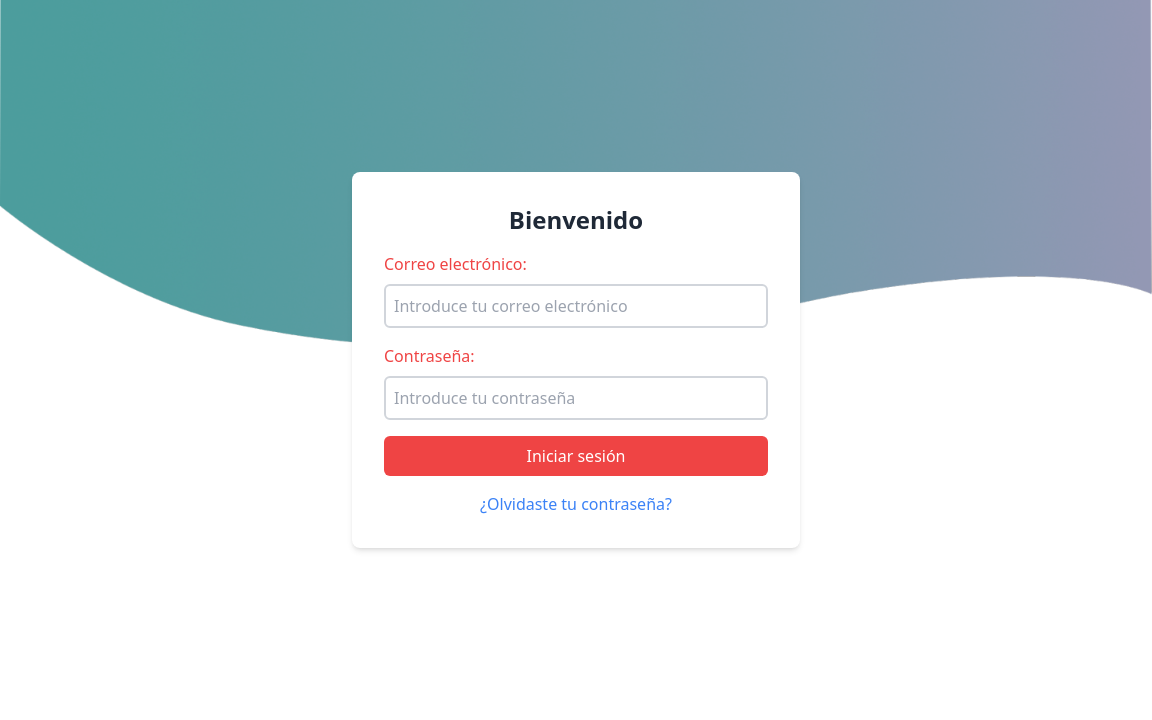
Test case: LoginForm › shows error on login failure
Note: Fill out the form
Step 1. Type "wrong@example.com" into the field labelled "Correo electrónico:" → {"x": 576, "y": 306}, box [384,284,768,328]
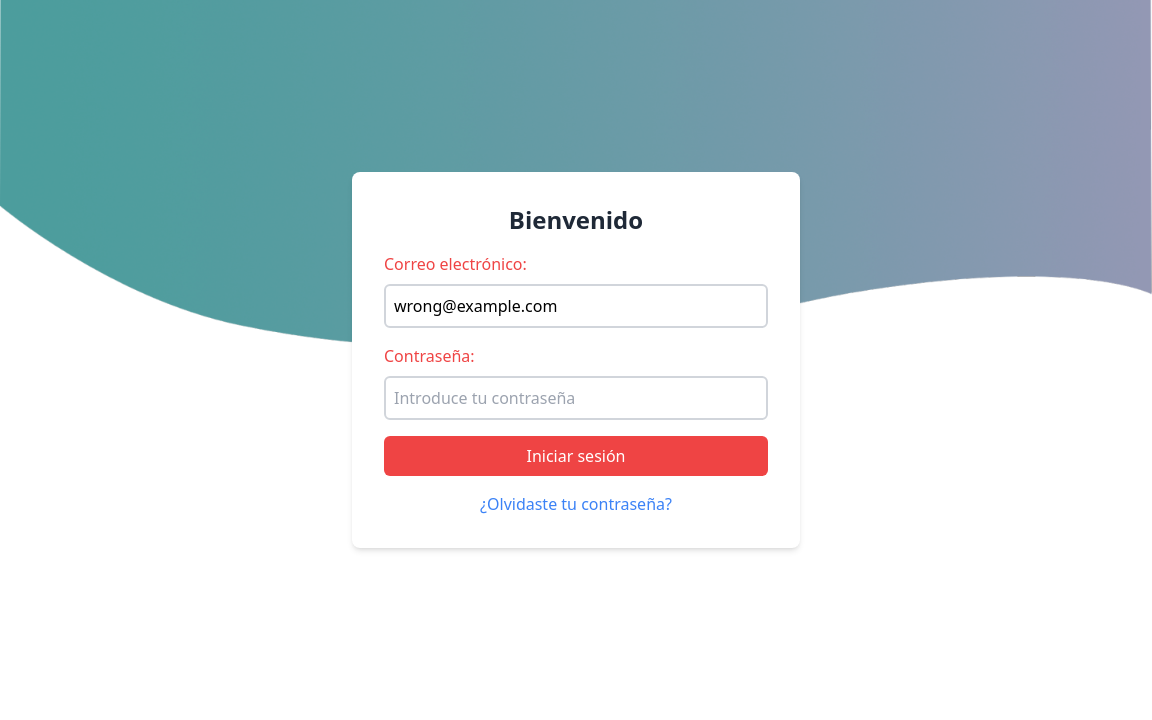
Step 2. Type "wrongpassword" into the password field labelled "Contraseña:" → {"x": 576, "y": 398}, box [384,376,768,420]
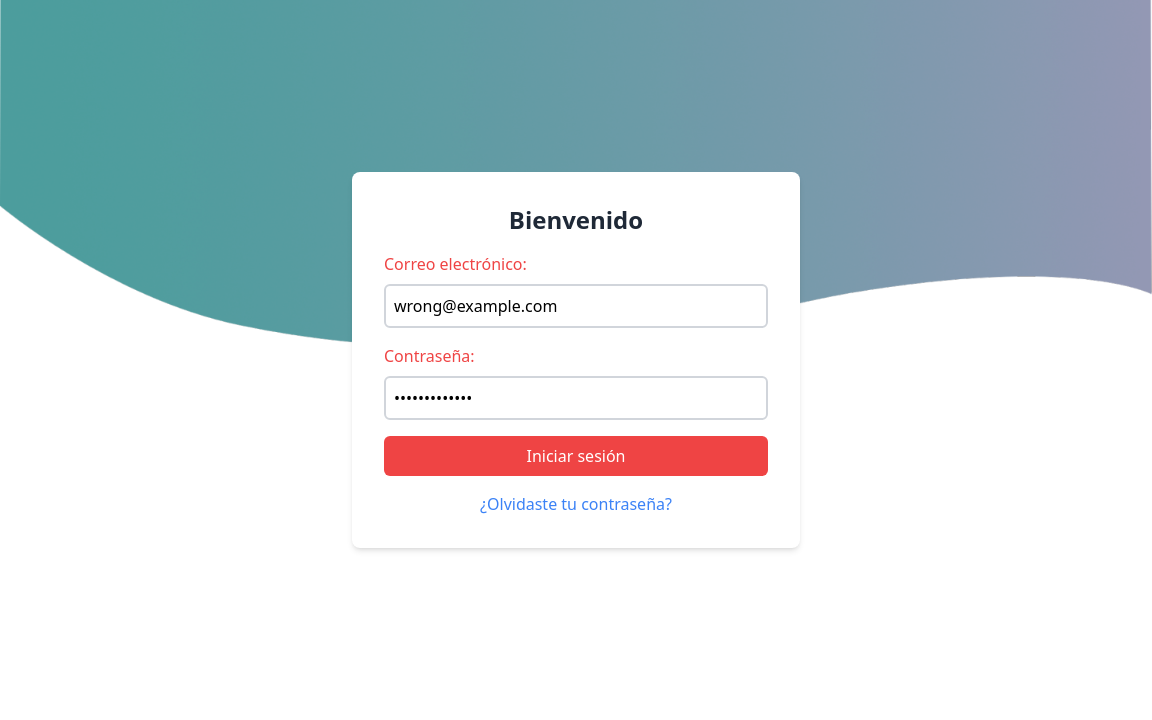
Step 3. Click the button "Iniciar sesión" → {"x": 576, "y": 456}, box [384,436,768,476]
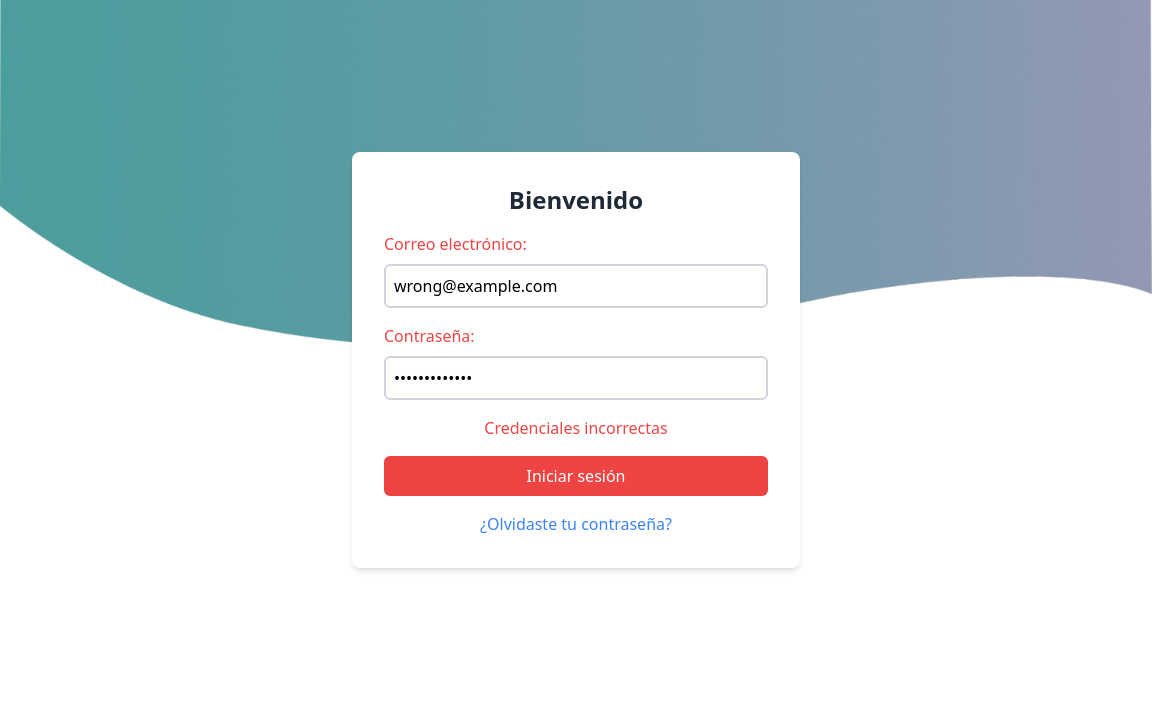
Result: the text "Credenciales incorrectas" is shown at [484,417,668,439]
